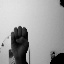e: (10, 25, 30, 53)
